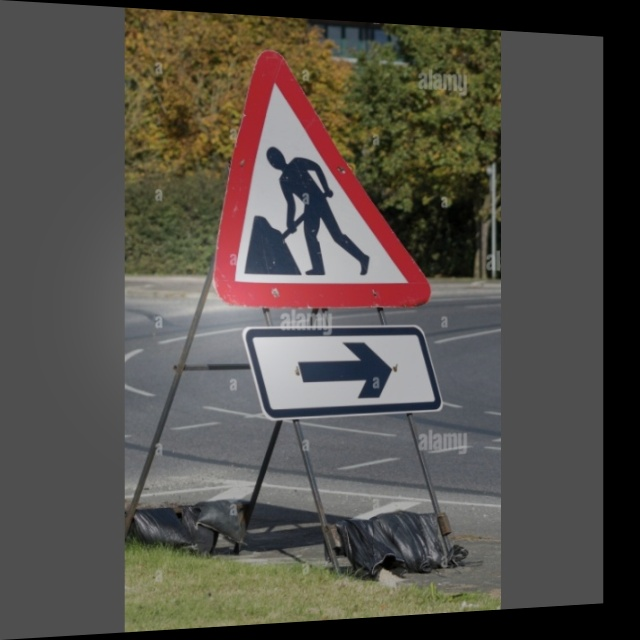Men_at_Work: (189, 48, 439, 308)
